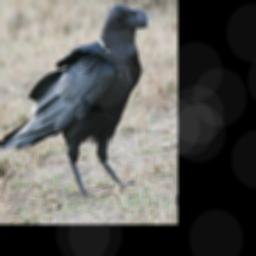Crow: (0, 4, 152, 199)
